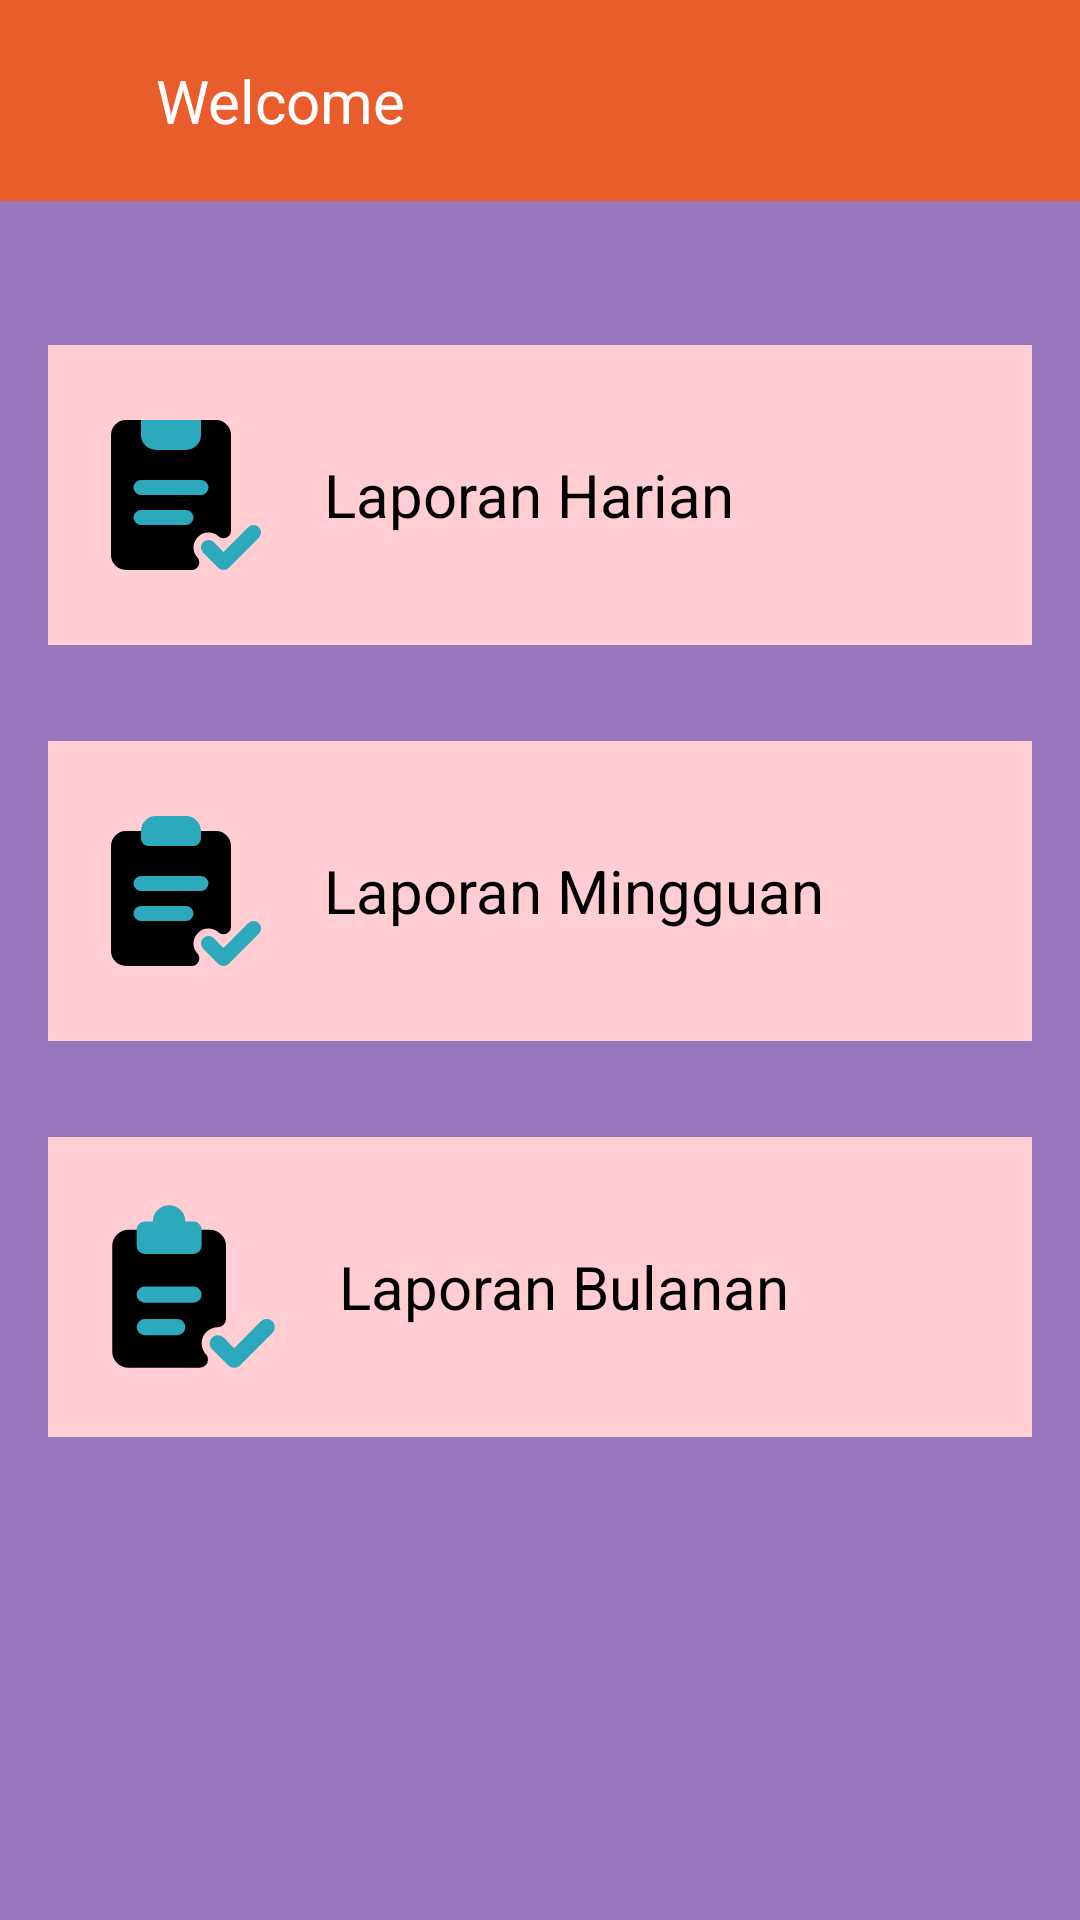

Named icons in this screenshot (1080w x 1920h) and their bounding boxes, box(x1, y1, x2, y2):
masuk bulan: box(112, 1205, 275, 1368)
masuk hari: box(111, 420, 261, 570)
masuk minggu: box(111, 816, 261, 966)
